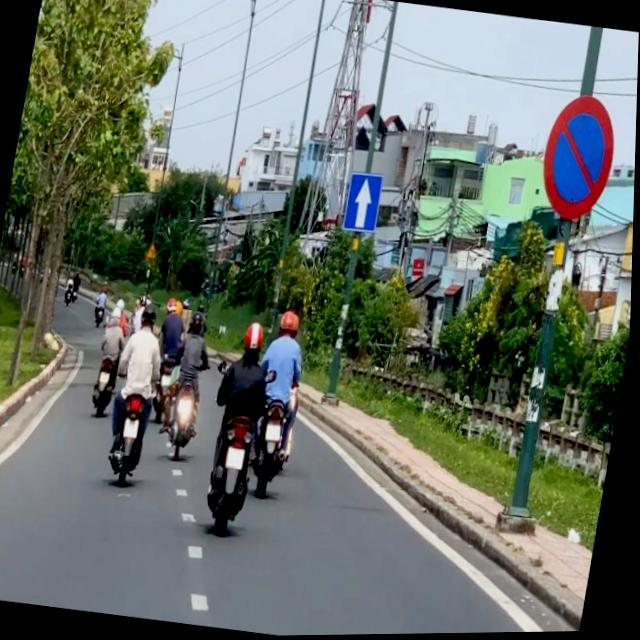Cam do xe: (535, 92, 623, 228)
Duong mot chieu: (342, 169, 387, 238)
cho ngoat nguy hiem vong ben trai: (147, 243, 160, 262)
